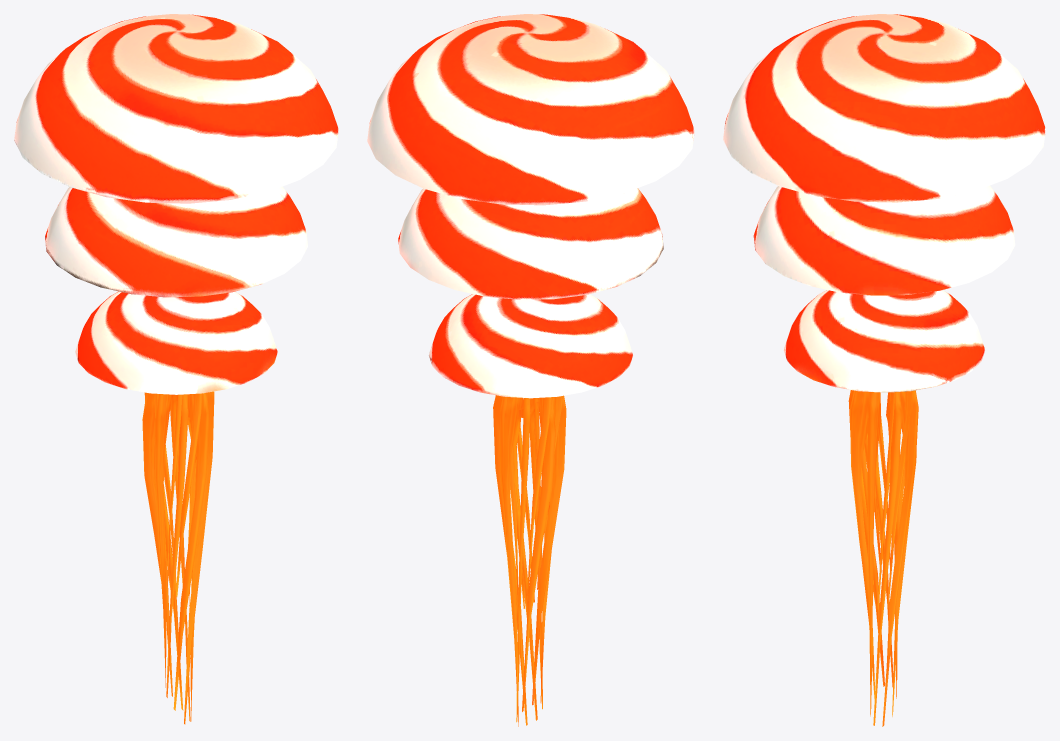
The model's file is curcubitor.glb.
3 views of the same model, side by side, from view 1: azimuth 30°, elevation 25°; view 2: azimuth 150°, elevation 25°; view 3: azimuth 270°, elevation 25° (orthographic).
Parts seen in each view (by area): view 1: curcubitor; view 2: curcubitor; view 3: curcubitor.
Part boxes in pixels (<box>): curcubitor: <box>14,14,338,724</box>; curcubitor: <box>367,14,694,726</box>; curcubitor: <box>723,14,1045,726</box>.
Bounding box in the file's own units: 26.18 × 61.62 × 26.18.
1 material, 1 textured.
